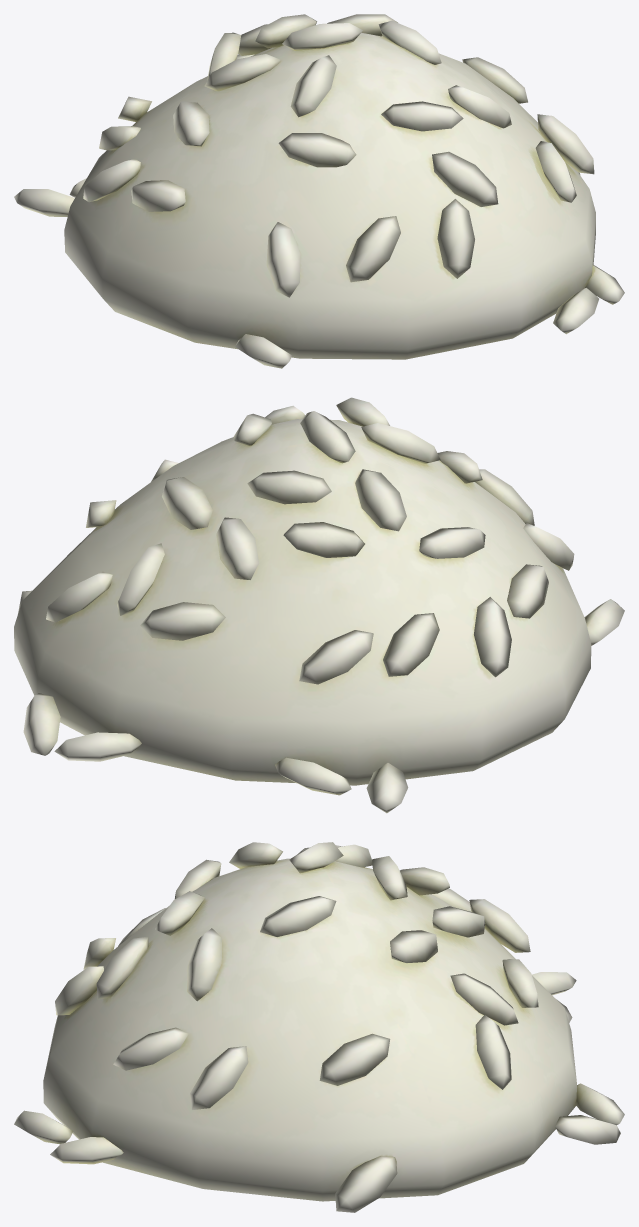
File: t_ingredients_rice_trimming.fbx
The picture shows the model from 3 angles, top to bottom: view 1: azimuth 30°, elevation 25°; view 2: azimuth 150°, elevation 25°; view 3: azimuth 270°, elevation 25°; orthographic projection. The views are drawn at different scales.
Visible parts, largest first — view 1: m_ingredients_rice_boiled_01; view 2: m_ingredients_rice_boiled_01; view 3: m_ingredients_rice_boiled_01.
Boxes of the visible parts, x1,y1,x2,y2 form: m_ingredients_rice_boiled_01: (14,14,624,368); m_ingredients_rice_boiled_01: (14,397,624,813); m_ingredients_rice_boiled_01: (14,842,624,1212).
Size of the model in its own units: 90.82 by 42.2 by 95.95.
Materials: 1 (1 with a texture image).
